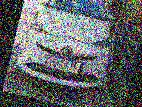car: (13, 0, 127, 96)
